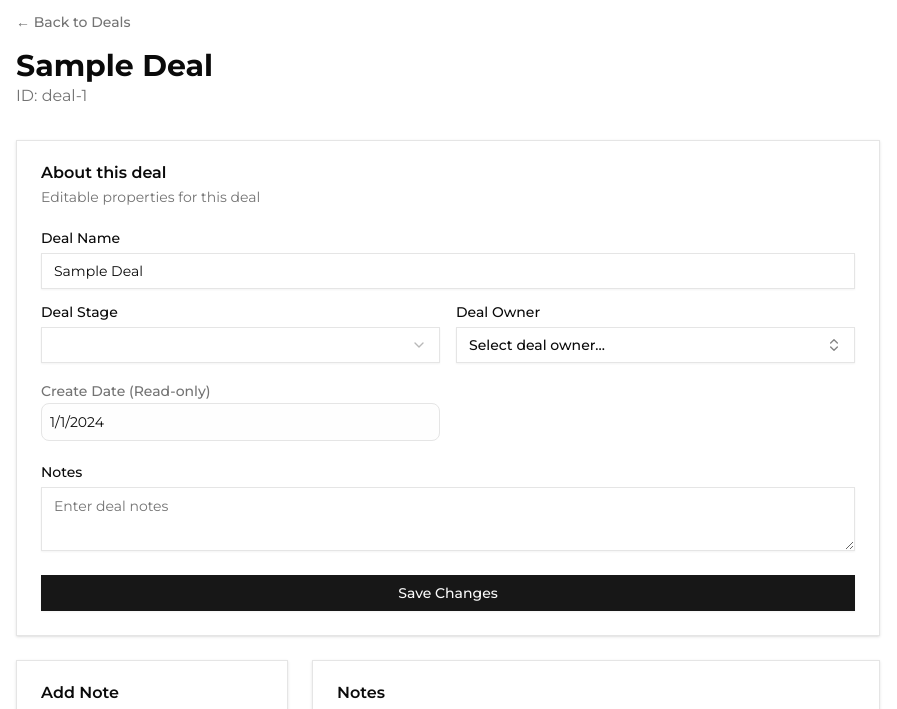
Test: DealContentClient › excludes invalid dealstage from update payload when saving other fields
# Update deal name only
Replace the text in the field labelled "Deal Name" with "Updated Deal" at (448, 271), box x1=41 y1=253 x2=855 y2=289
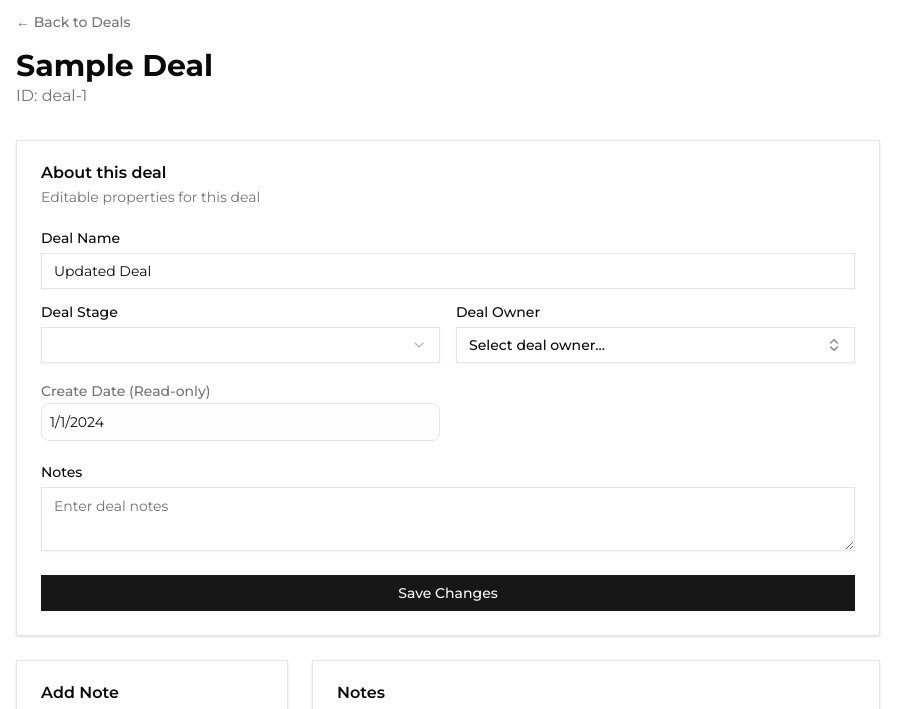
Click the button "Save Changes" at (448, 593), box x1=41 y1=575 x2=855 y2=611
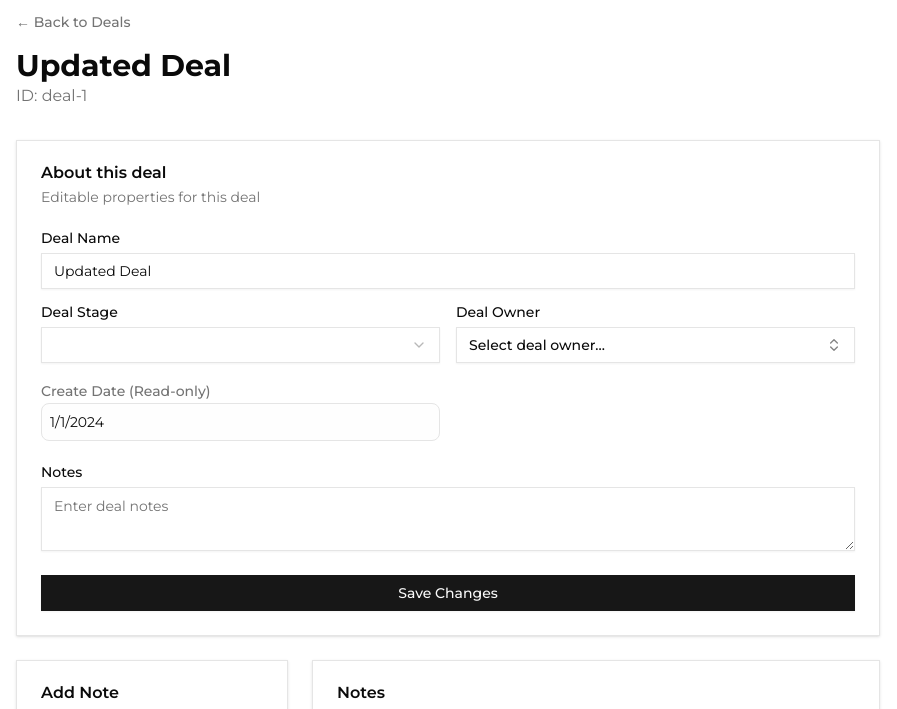
Now the heading "Updated Deal" is shown, box x1=16 y1=48 x2=231 y2=84
